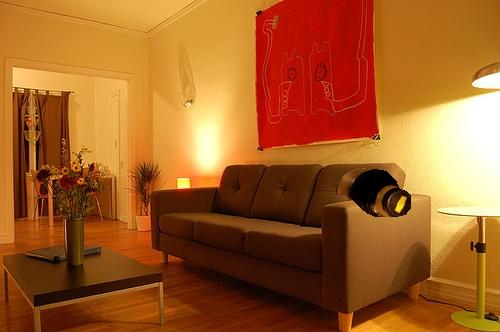tampered: (336, 169, 411, 217)
